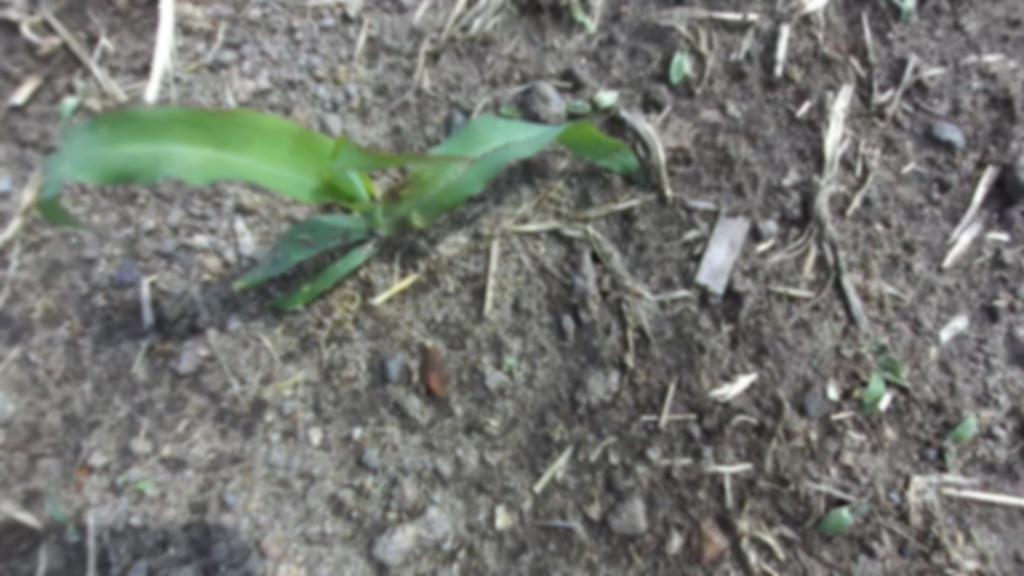BroWeed: (889, 441, 987, 529), (813, 485, 875, 548), (848, 356, 912, 415), (50, 62, 98, 128), (931, 406, 985, 464), (39, 483, 83, 545), (563, 83, 625, 119), (110, 458, 153, 495), (133, 450, 167, 496), (665, 35, 694, 87), (945, 547, 992, 576), (735, 18, 762, 63), (444, 83, 478, 117), (495, 94, 528, 125), (497, 344, 523, 381), (972, 439, 1003, 470), (781, 58, 812, 86), (874, 383, 901, 415), (682, 50, 703, 91), (684, 106, 724, 127), (549, 423, 575, 448), (928, 519, 950, 546), (723, 91, 742, 122), (514, 354, 533, 377), (827, 377, 843, 402), (984, 231, 1009, 242), (144, 485, 162, 498), (955, 531, 965, 553), (590, 13, 600, 35), (946, 460, 959, 476)
Maize: (31, 96, 644, 326)
